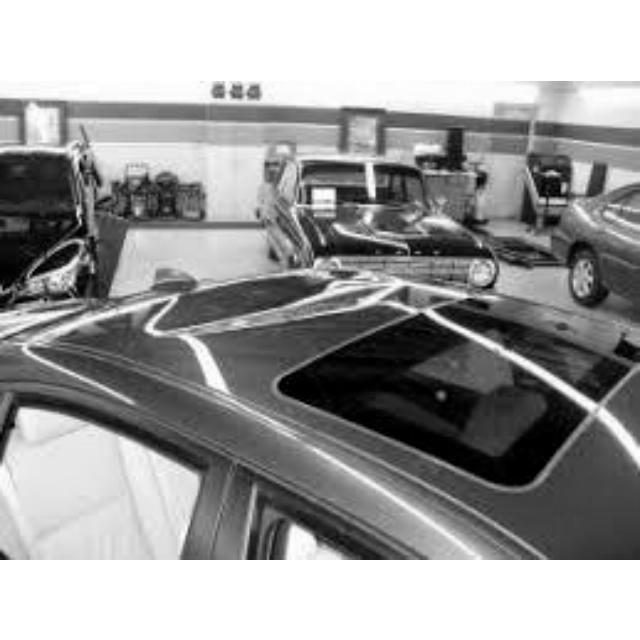roof-dent: (45, 266, 465, 416)
